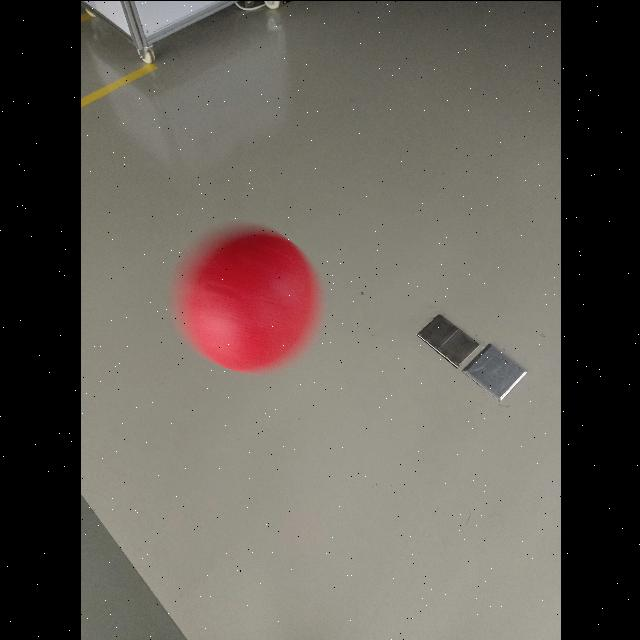R: (175, 230, 318, 368)
